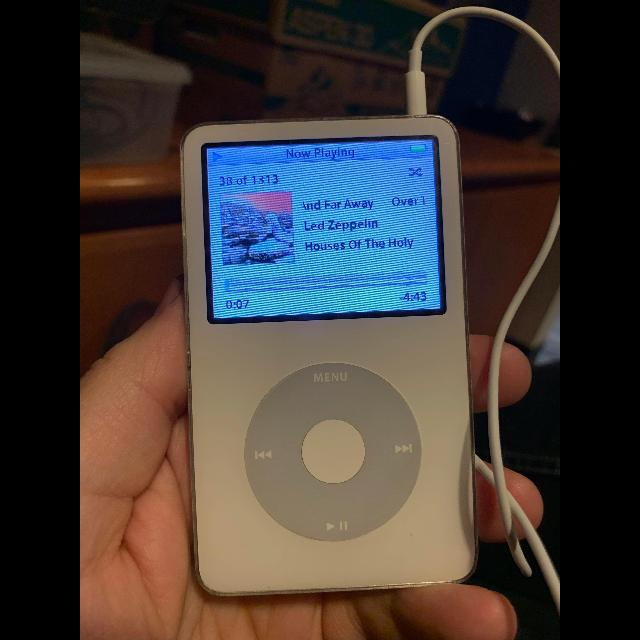Music-Player: (171, 105, 497, 619)
